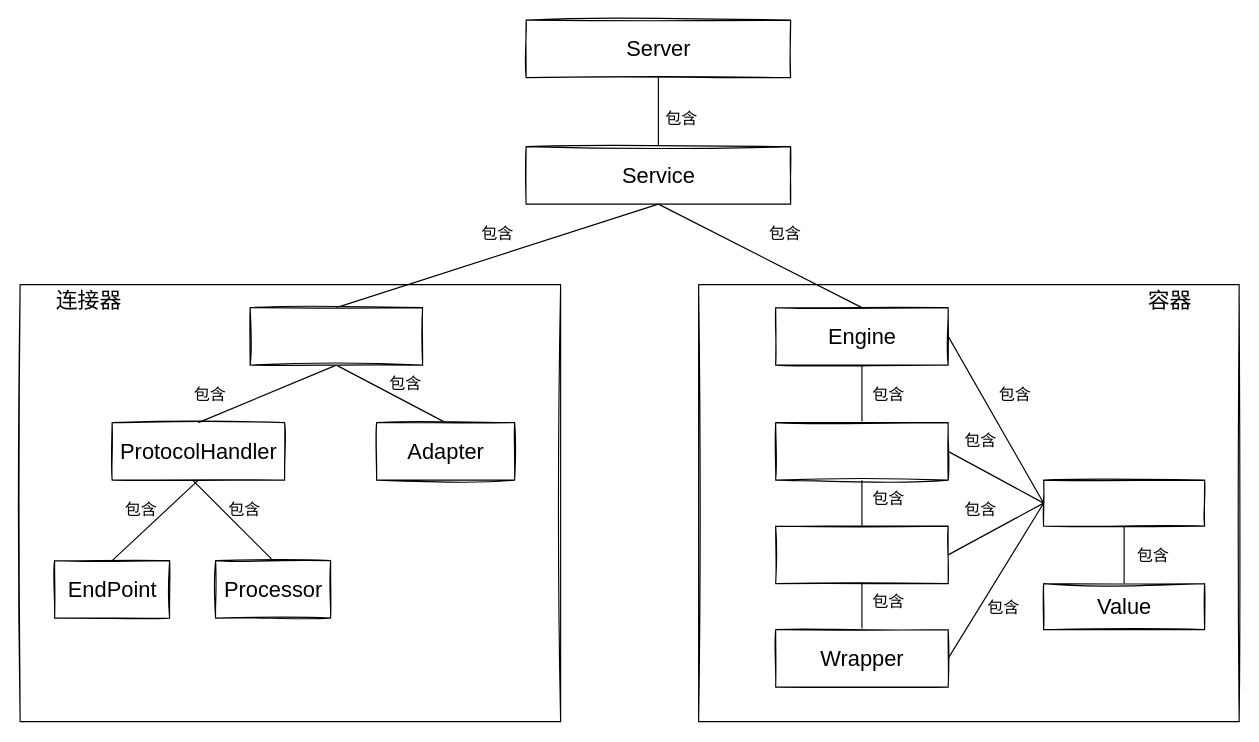
Image size: 1259x742. Some labels were removed from this diagram. Here are the shapes that lost their labels. From the top down, the centre of each, then its label:
At (336,335): "Connector".
At (861,450): "Host".
At (1123,502): "Pipeline".
At (861,554): "Context".
